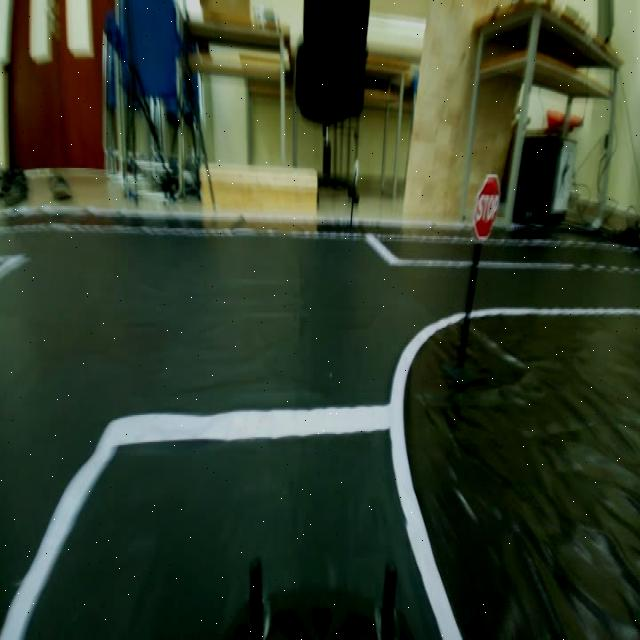stop: (470, 170, 502, 245)
